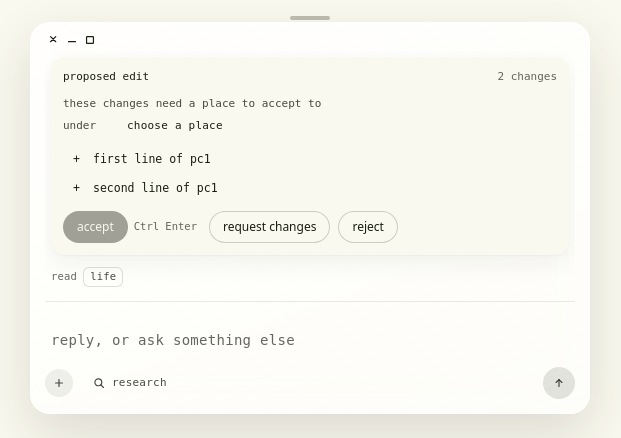
Test: AITerminal — propose_changes card (#98) › with needsPlace and nothing picked, the card names no target — not the pond
The image size is (621, 438).
Expected: the text box named "Message Pond" is enabled, 45,328 -> 575,353
Select "Page B" in the dropdown labelled "under". click: (342, 127)
box: 127,118 -> 557,136
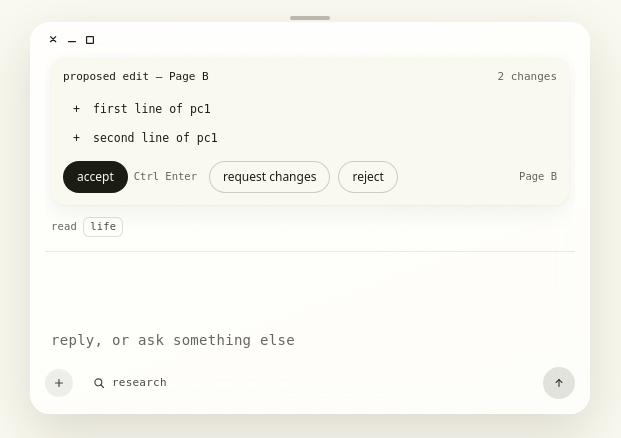
Result: the text "Page B" is shown at 519,169 -> 557,185
